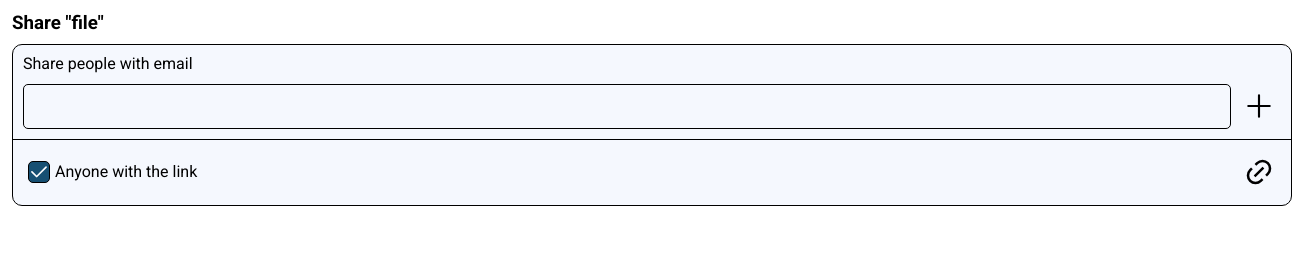
Test: FileShare component › should render the error field messages if any field fails validation after submission
The image size is (1292, 263).
Click the button titled "submit": [1258, 106] box top-left (1236, 84), bottom-right (1281, 129)
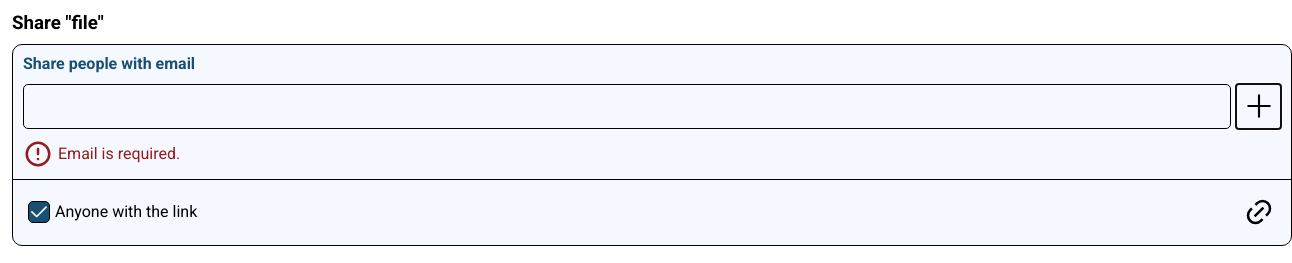
Check: the text "Email is required." is shown, box top-left (58, 144), bottom-right (180, 163)
